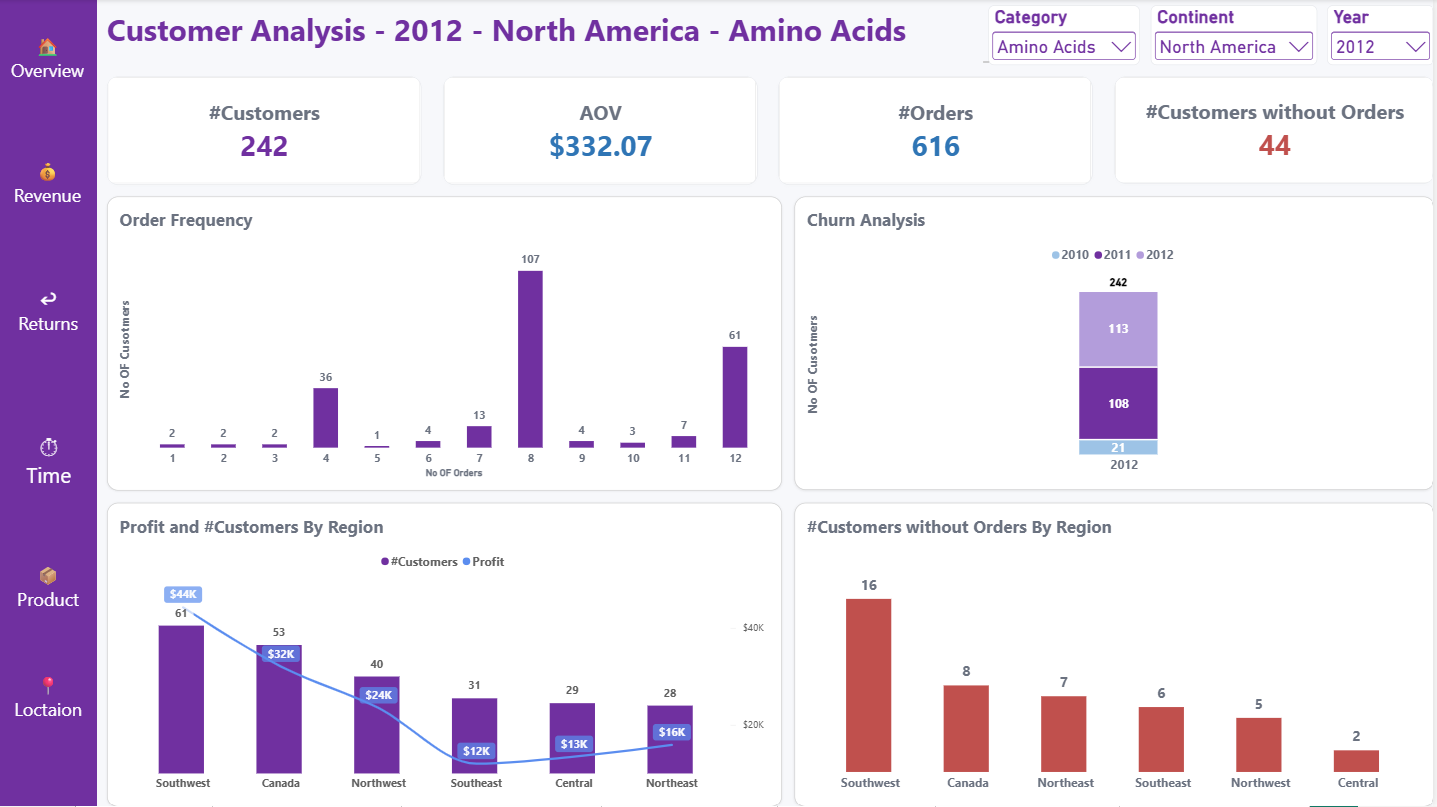

Layout of this report page (visuals, bound fields, positions):
{"tool":"powerbi","page":{"name":"👥 Customer Analysis","canvas":[1920,1080],"ordinal":2},"visuals":[{"type":"cardVisual","fields":{"Data":["Calcultaions.#Customers"]},"box":[146.6,103.2,419.8,144.8],"z":0},{"type":"cardVisual","fields":{"Data":["Calcultaions.AOV"]},"box":[595.4,103.2,419.8,144.8],"z":1000},{"type":"cardVisual","fields":{"Data":["Calcultaions.#Orders"]},"box":[1044.2,103.2,419.8,144.8],"z":2000},{"type":"cardVisual","fields":{"Data":["Calcultaions.No Sales"]},"box":[1492.8,103.5,427.5,143.6],"z":3000},{"type":"clusteredColumnChart","title":"Order Frequency","fields":{"Category":["Customers.No OF Orders"],"Y":["Calcultaions.#Customers"]},"box":[146.6,264.2,901.2,392.7],"z":4000},{"type":"columnChart","title":"Churn Analysis","fields":{"Category":["Date Table.Year"],"Series":["Customers.First Order"],"Y":["Calcultaions.#Customers"]},"box":[1065.3,263.8,854.9,392.4],"z":5000},{"type":"lineClusteredColumnComboChart","title":"Profit and #Customers By Region","fields":{"Category":["Customers.Region"],"Y":["Calcultaions.#Customers"],"Y2":["Calcultaions.Profit"]},"box":[146.9,672.9,901.7,407.4],"z":6000},{"type":"lineClusteredColumnComboChart","title":"#Customers without Orders By Region","fields":{"Category":["Customers.Region"],"Y":["Calcultaions.#Customers without Orders"]},"box":[1065.3,672.9,854.9,407.4],"z":7000},{"type":"slicer","fields":{"Values":["Product.CategoryName"]},"box":[1324.7,9,202.7,79.6],"z":8000},{"type":"slicer","fields":{"Values":["Date Table.Year"]},"box":[1776.6,8.3,143.6,80.1],"z":9000},{"type":"slicer","fields":{"Values":["Customers.Continent"]},"box":[1541.8,9,222.6,79.6],"z":10000},{"type":"textbox","box":[146.6,12.7,1178.1,72.4],"z":11000},{"type":"shape","box":[1.7,0,131.9,1080.3],"z":12000},{"type":"actionButton","title":"🏠Overview","box":[5.4,34.4,124.9,90.5],"z":13000},{"type":"actionButton","title":"🏠Overview","box":[5.4,372.8,126.7,90.5],"z":14000},{"type":"actionButton","title":"🏠Overview","box":[7.2,742,123.1,90.5],"z":15000},{"type":"actionButton","title":"🏠Overview","box":[7.2,888.5,123.1,90.5],"z":16000},{"type":"actionButton","title":"🏠Overview","box":[5.4,202.7,124.9,90.5],"z":17000},{"type":"actionButton","title":"🏠Overview","box":[18.1,564.6,101.3,106.8],"z":18000}]}

Visuals, with their boxes on the page's 1920x1080 design canvas (x1, y1, x2, y2). These are canvas units, not pixel positions in the 1437x807 screenshot, which may show the page scaled, cropped or inside an application window:
cardVisual - Calcultaions.#Customers: x1=147, y1=103, x2=566, y2=248
cardVisual - Calcultaions.AOV: x1=595, y1=103, x2=1015, y2=248
cardVisual - Calcultaions.#Orders: x1=1044, y1=103, x2=1464, y2=248
cardVisual - Calcultaions.No Sales: x1=1493, y1=104, x2=1920, y2=247
"Order Frequency" clusteredColumnChart: x1=147, y1=264, x2=1048, y2=657
"Churn Analysis" columnChart: x1=1065, y1=264, x2=1920, y2=656
"Profit and #Customers By Region" lineClusteredColumnComboChart: x1=147, y1=673, x2=1049, y2=1080
"#Customers without Orders By Region" lineClusteredColumnComboChart: x1=1065, y1=673, x2=1920, y2=1080
slicer - Product.CategoryName: x1=1325, y1=9, x2=1527, y2=89
slicer - Date Table.Year: x1=1777, y1=8, x2=1920, y2=88
slicer - Customers.Continent: x1=1542, y1=9, x2=1764, y2=89
textbox: x1=147, y1=13, x2=1325, y2=85
shape: x1=2, y1=0, x2=134, y2=1080
"🏠Overview" actionButton: x1=5, y1=34, x2=130, y2=125
"🏠Overview" actionButton: x1=5, y1=373, x2=132, y2=463
"🏠Overview" actionButton: x1=7, y1=742, x2=130, y2=832
"🏠Overview" actionButton: x1=7, y1=888, x2=130, y2=979
"🏠Overview" actionButton: x1=5, y1=203, x2=130, y2=293
"🏠Overview" actionButton: x1=18, y1=565, x2=119, y2=671
